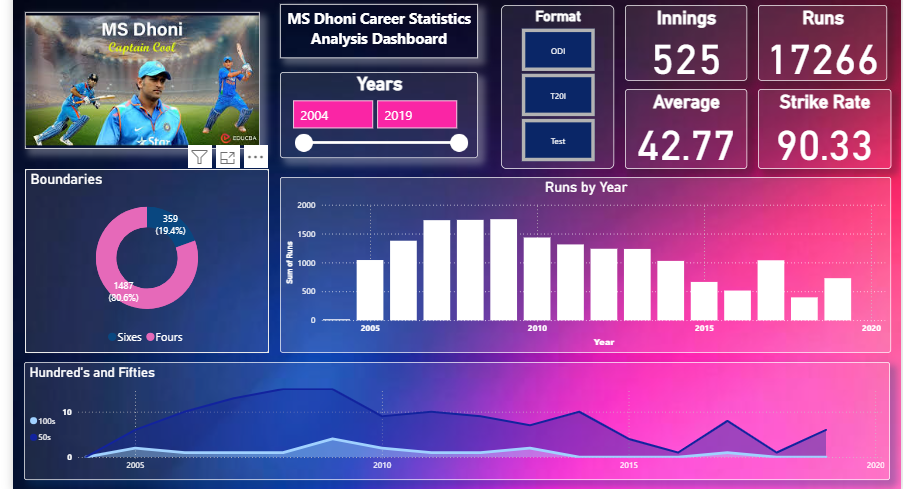

What the dashboard file says about the page in this screenshot:
{"tool":"powerbi","page":{"name":"Page 1","canvas":[1280,720],"ordinal":0},"visuals":[{"type":"image","box":[17.3,28.8,338.4,197.3],"z":0},{"type":"textbox","box":[384.5,17.3,285.1,77.8],"z":1000},{"type":"card","title":"Innings","fields":{"Values":["Sum(MS Dhoni data.Innings)"]},"box":[881.3,18.7,175.7,109.4],"z":2000},{"type":"card","title":"Runs","fields":{"Values":["Sum(MS Dhoni data.Runs)"]},"box":[1072.8,18.7,185.8,109.4],"z":3000},{"type":"card","title":"Average","fields":{"Values":["Avg(MS Dhoni data.Avg)"]},"box":[881.3,139.7,175.7,115.2],"z":4000},{"type":"card","title":"Strike Rate","fields":{"Values":["Avg(MS Dhoni data.SR)"]},"box":[1072.8,139.7,191.5,115.2],"z":5000},{"type":"slicer","title":"Format","fields":{"Values":["MS Dhoni data.Formate"]},"box":[702.7,18.7,162.7,236.2],"z":6000},{"type":"slicer","title":"Years","fields":{"Values":["MS Dhoni data.Year"]},"box":[384.5,115.2,285.1,123.8],"z":7000},{"type":"columnChart","title":"Runs by Year","fields":{"Category":["MS Dhoni data.Year"],"Y":["Sum(MS Dhoni data.Runs)"]},"box":[384.5,266.4,879.8,253.4],"z":8000},{"type":"donutChart","title":"Boundaries","fields":{"Y":["Sum(MS Dhoni data.6s)","Sum(MS Dhoni data.4s)"]},"box":[17.3,254.9,351.4,265],"z":9000},{"type":"stackedAreaChart","title":"Hundred''s and Fifties","fields":{"Category":["MS Dhoni data.Year"],"Y":["Sum(MS Dhoni data.100)","Sum(MS Dhoni data.50)"]},"box":[15.8,532.8,1247,169.9],"z":10000}]}

Visuals, with their boxes in screenshot pixels (x1, y1, x2, y2):
image: <region>12, 0, 256, 139</region>
textbox: <region>277, 0, 482, 45</region>
"Innings" card: <region>635, 0, 761, 69</region>
"Runs" card: <region>773, 0, 902, 69</region>
"Average" card: <region>635, 77, 761, 160</region>
"Strike Rate" card: <region>773, 77, 902, 160</region>
"Format" slicer: <region>506, 0, 623, 160</region>
"Years" slicer: <region>277, 59, 482, 149</region>
"Runs by Year" columnChart: <region>277, 168, 902, 351</region>
"Boundaries" donutChart: <region>12, 160, 266, 351</region>
"Hundred''s and Fifties" stackedAreaChart: <region>11, 360, 902, 482</region>
